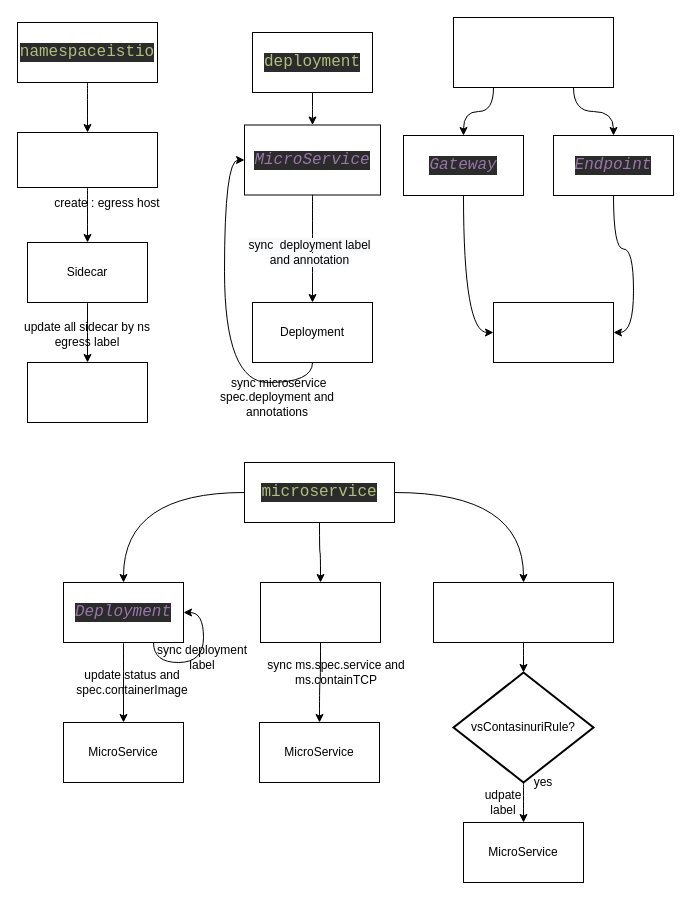
This 691x900 diagram has some shape labels left out. Here are the shapes that lost their labels. From the top down, the box of each, then its label:
(452, 16, 614, 88): gatewayistio
(16, 132, 158, 188): Namespace
(492, 302, 614, 362): nil, false
(26, 362, 148, 422): SidecarList
(260, 582, 380, 642): Service
(432, 582, 614, 642): VirtualService
